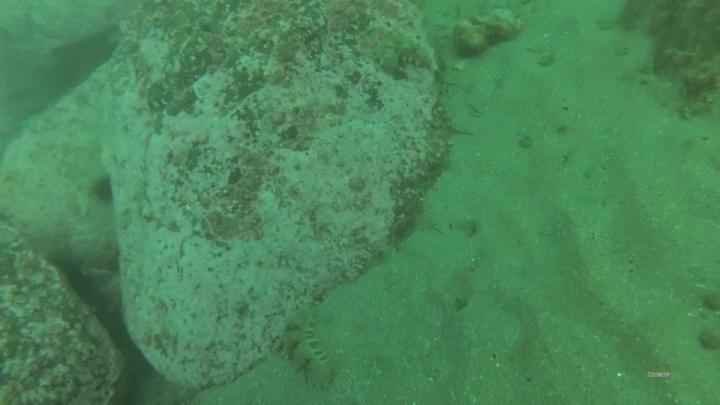holothurian: (285, 300, 337, 391), (374, 30, 438, 74)
